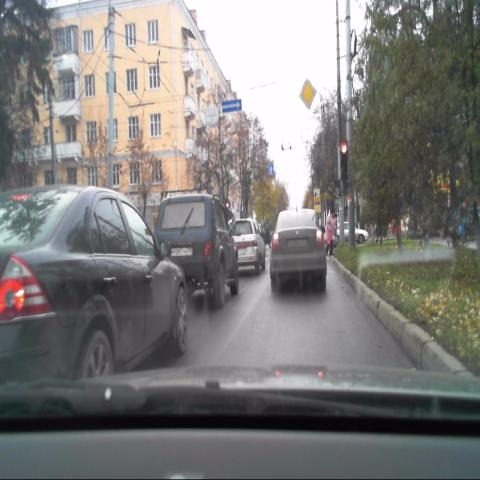5_7_1: (222, 99, 242, 111)
